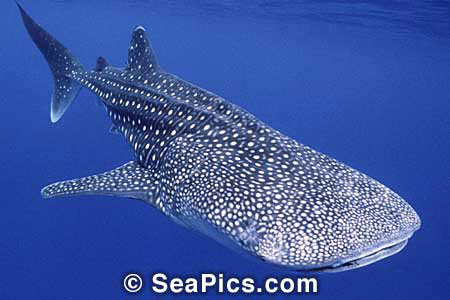Rhincodon_typusw: (13, 5, 427, 277)
